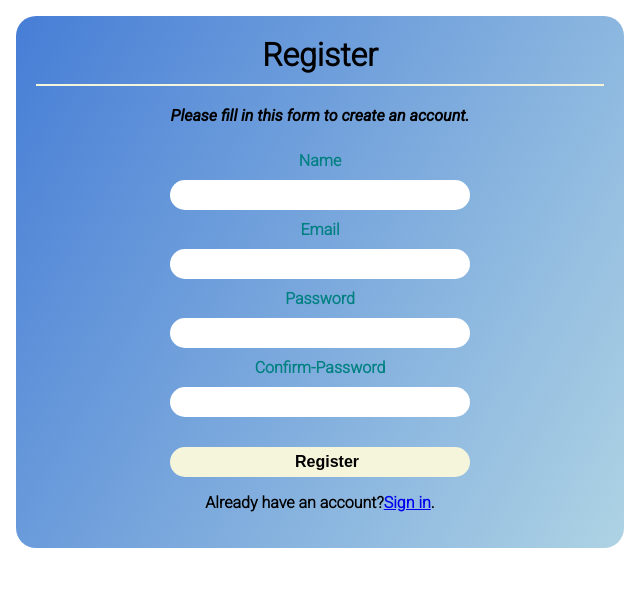
Test: Test Register component › Register form inputs errors › should show invalid username error!
Type "Koko" into the field with test id "username" at (320, 195), box [170,180,470,210]
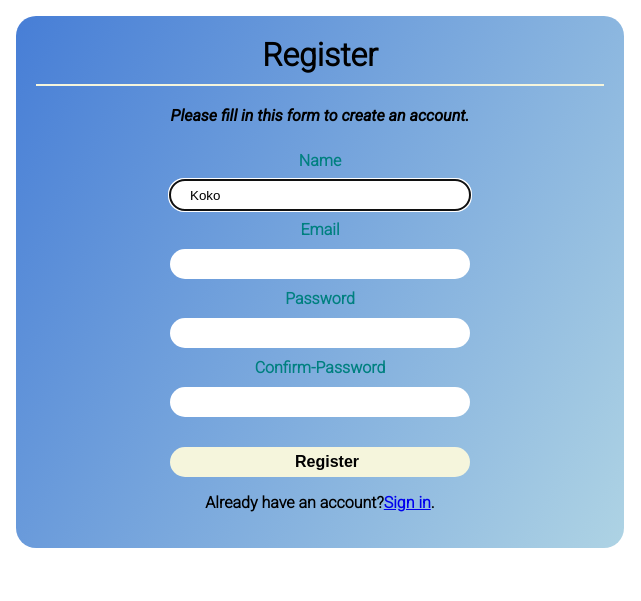
Press Tab
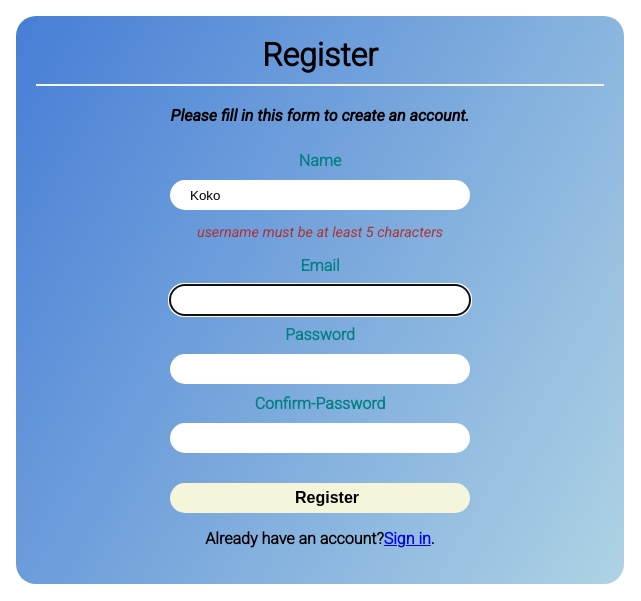
Result: the text "username must be at least 5 characters" is shown at [197,224,443,241]
